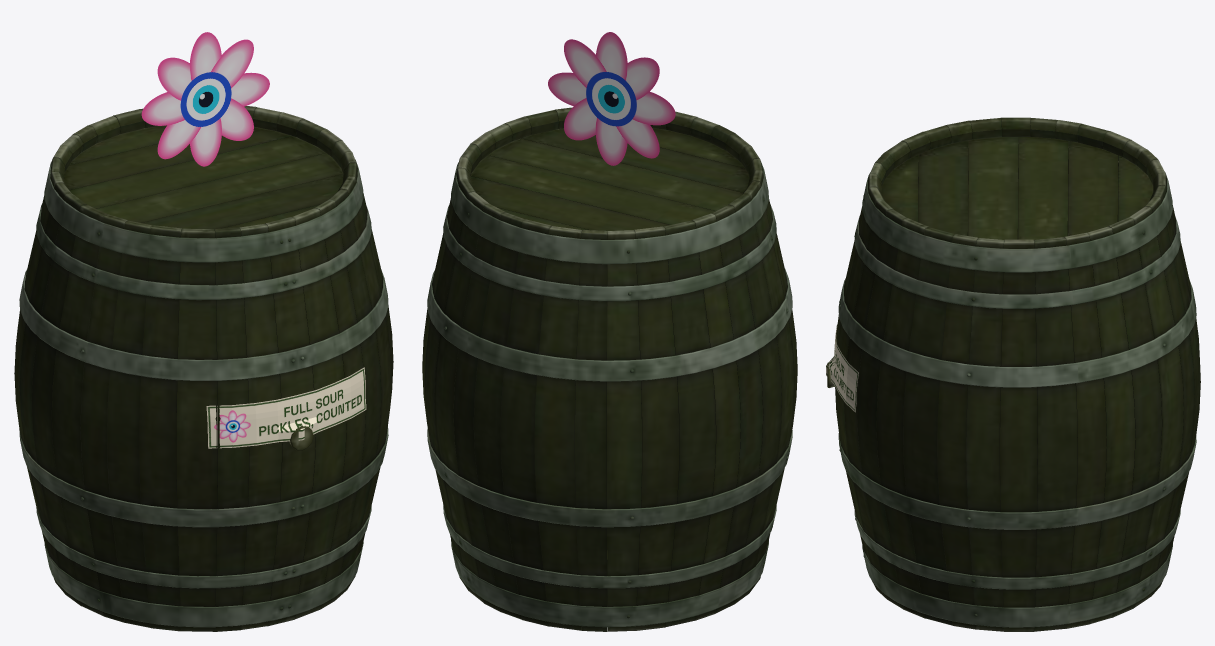
The model's file is nyb_katz_pickles.glb.
The picture shows the model from 3 angles, left to right: view 1: azimuth 30°, elevation 25°; view 2: azimuth 150°, elevation 25°; view 3: azimuth 270°, elevation 25°; orthographic projection. The views are drawn at different scales.
Parts seen in each view (by area): view 1: wine_barrel_01_Lid, add_eyeflower.png, stk_lbl_9c5edc32e6.png; view 2: wine_barrel_01_Lid, add_eyeflower.png; view 3: wine_barrel_01_Lid, stk_lbl_9c5edc32e6.png.
Part boxes in pixels (x1,y1,x2,y2): wine_barrel_01_Lid: (14,106,393,631); add_eyeflower.png: (141,32,269,166); stk_lbl_9c5edc32e6.png: (206,367,366,448); wine_barrel_01_Lid: (422,107,797,631); add_eyeflower.png: (548,32,675,165); wine_barrel_01_Lid: (827,117,1200,631); stk_lbl_9c5edc32e6.png: (826,324,858,412).
Bounding box in the file's own units: 0.7419 × 1.17 × 0.7584.
3 materials, 3 textured.
